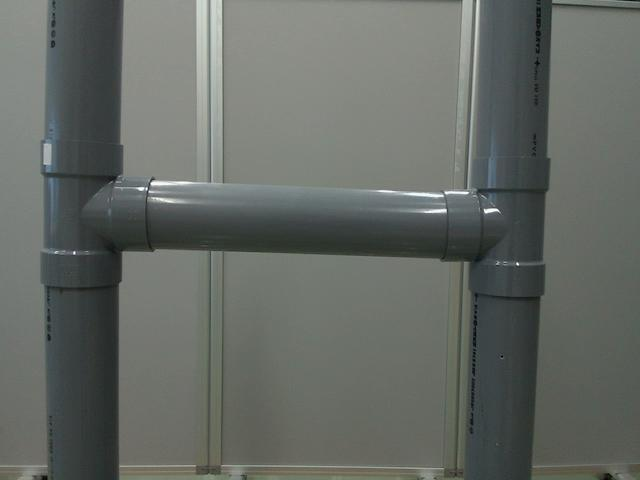junction: (35, 136, 156, 295), (435, 161, 550, 300)
